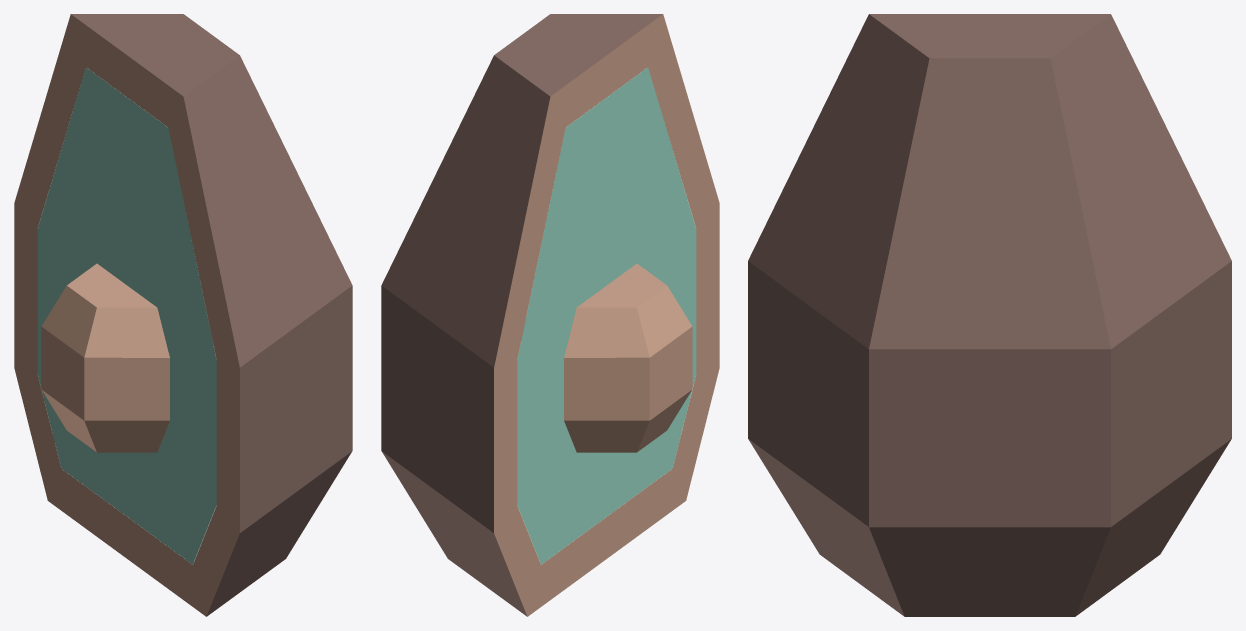
3 renders of one model, left to right at view 1: azimuth 30°, elevation 25°; view 2: azimuth 150°, elevation 25°; view 3: azimuth 270°, elevation 25°, orthographic. The views are drawn at different scales.
Visible parts, largest first — view 1: avocadoHalf, pit; view 2: avocadoHalf, pit; view 3: avocadoHalf.
Boxes of the visible parts, x1,y1,x2,y2 form: avocadoHalf: (14,14,352,616); pit: (41,263,212,452); avocadoHalf: (381,14,719,616); pit: (564,263,692,452); avocadoHalf: (748,14,1231,616).
Size of the model in its own units: 0.1036 by 0.2137 by 0.1734.
